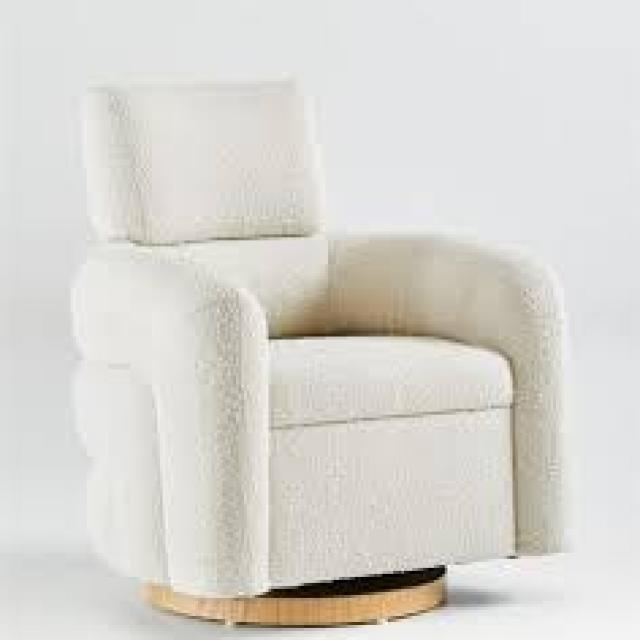chair: (71, 71, 588, 607)
